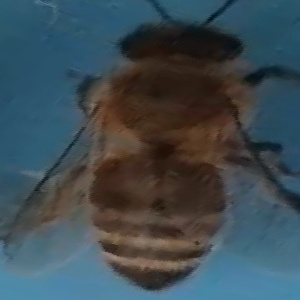bee: (23, 5, 297, 300)
